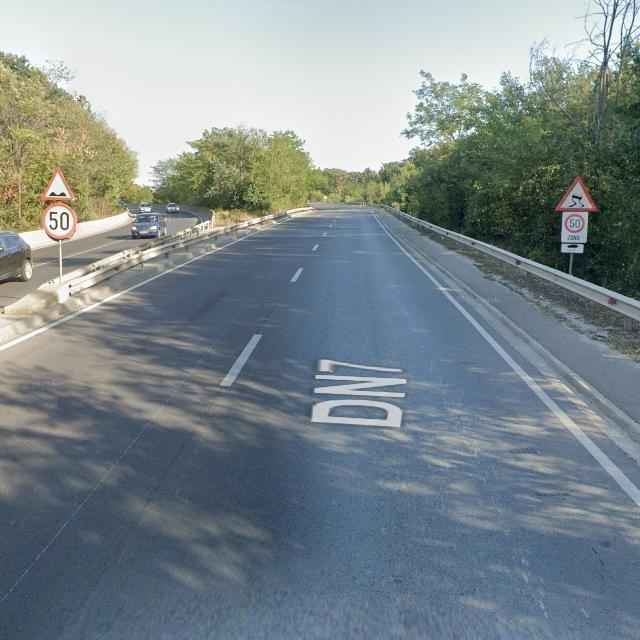forb_speed_over_50: (42, 202, 77, 240), (565, 214, 585, 233)
